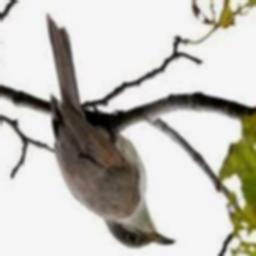Cuckoo: (46, 13, 176, 248)
